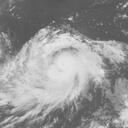cyclone: (23, 30, 106, 112)
